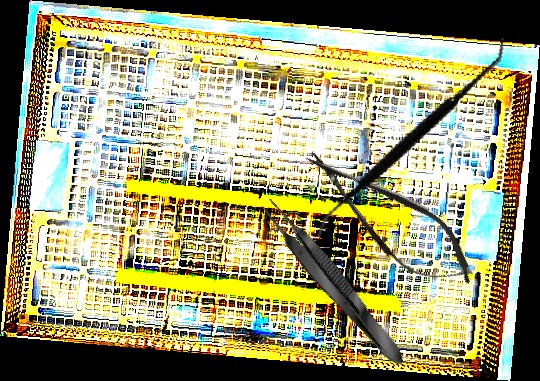Micro Scissor: (288, 129, 490, 307)
Spatula Surgical: (313, 5, 507, 270)
Tissue Forceps: (254, 193, 413, 374)
